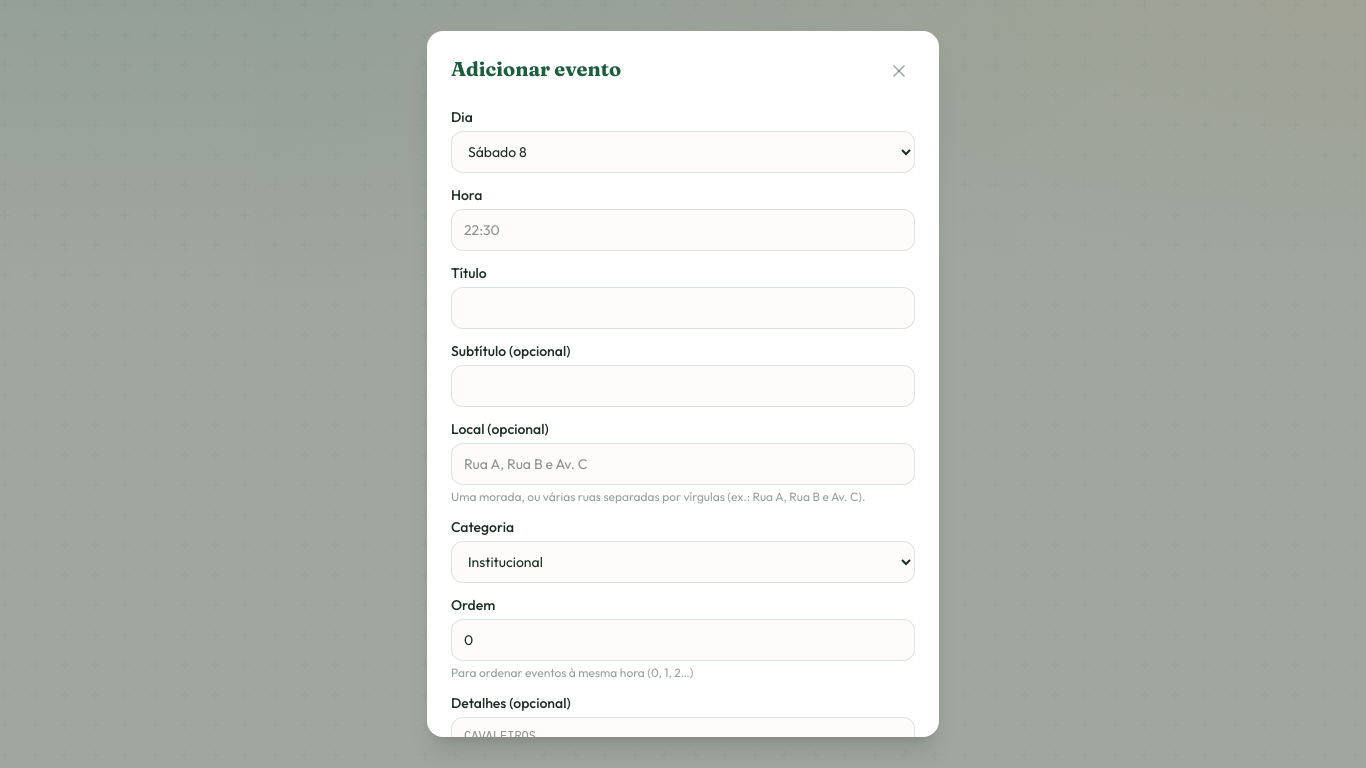
EventForm › rejects invalid time
Type "Show" into the field labelled "Título" at (683, 308), box [451, 287, 915, 329]
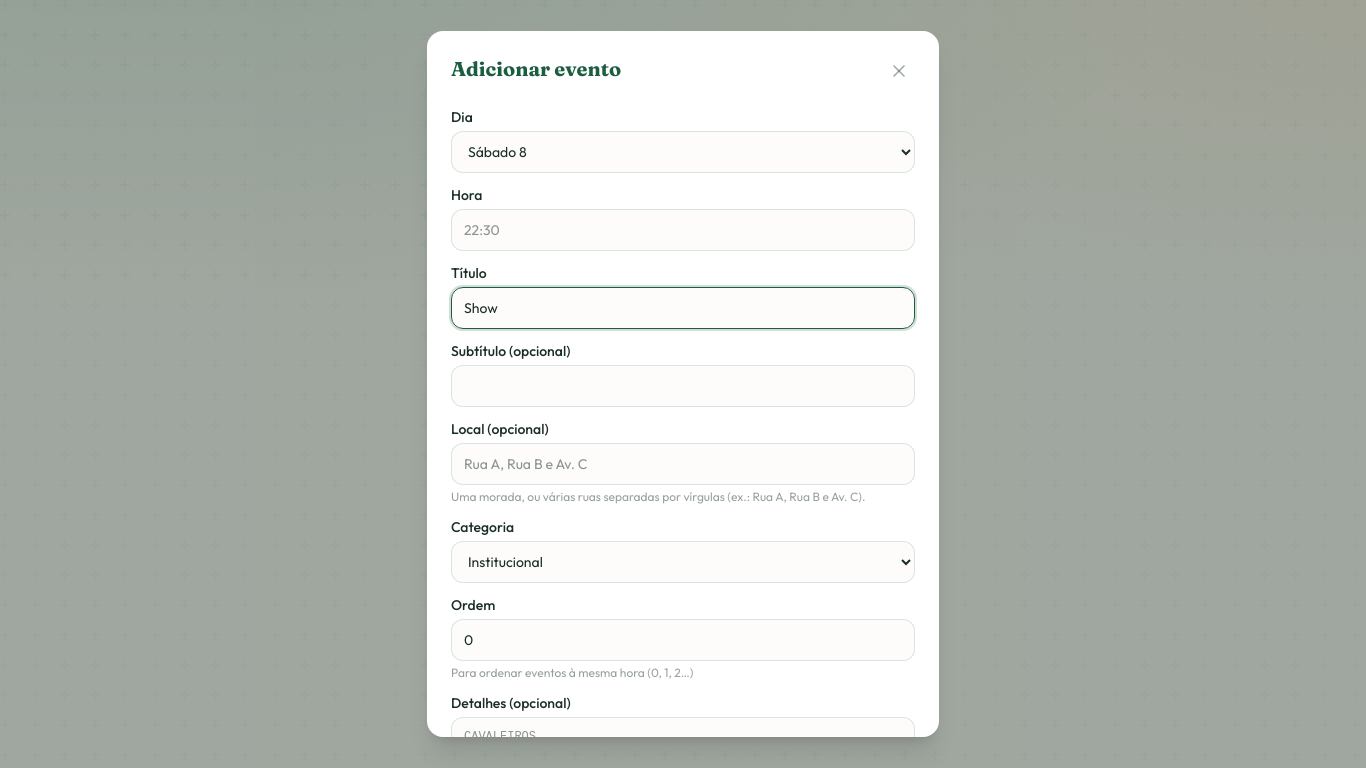
Type "99:99" into the field labelled "Hora" at (683, 230), box [451, 209, 915, 251]
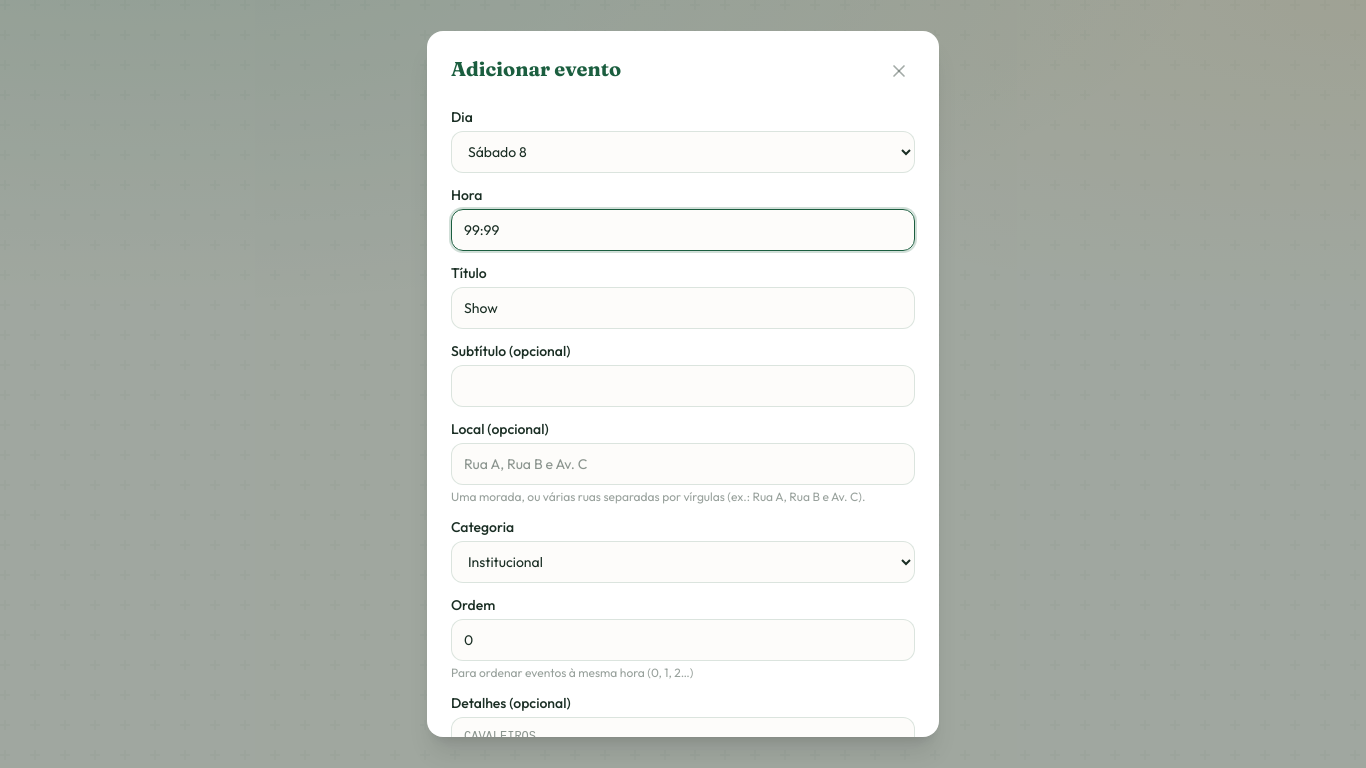
Submit the form named "guardar", box [427, 31, 939, 737]
(page scrolled)
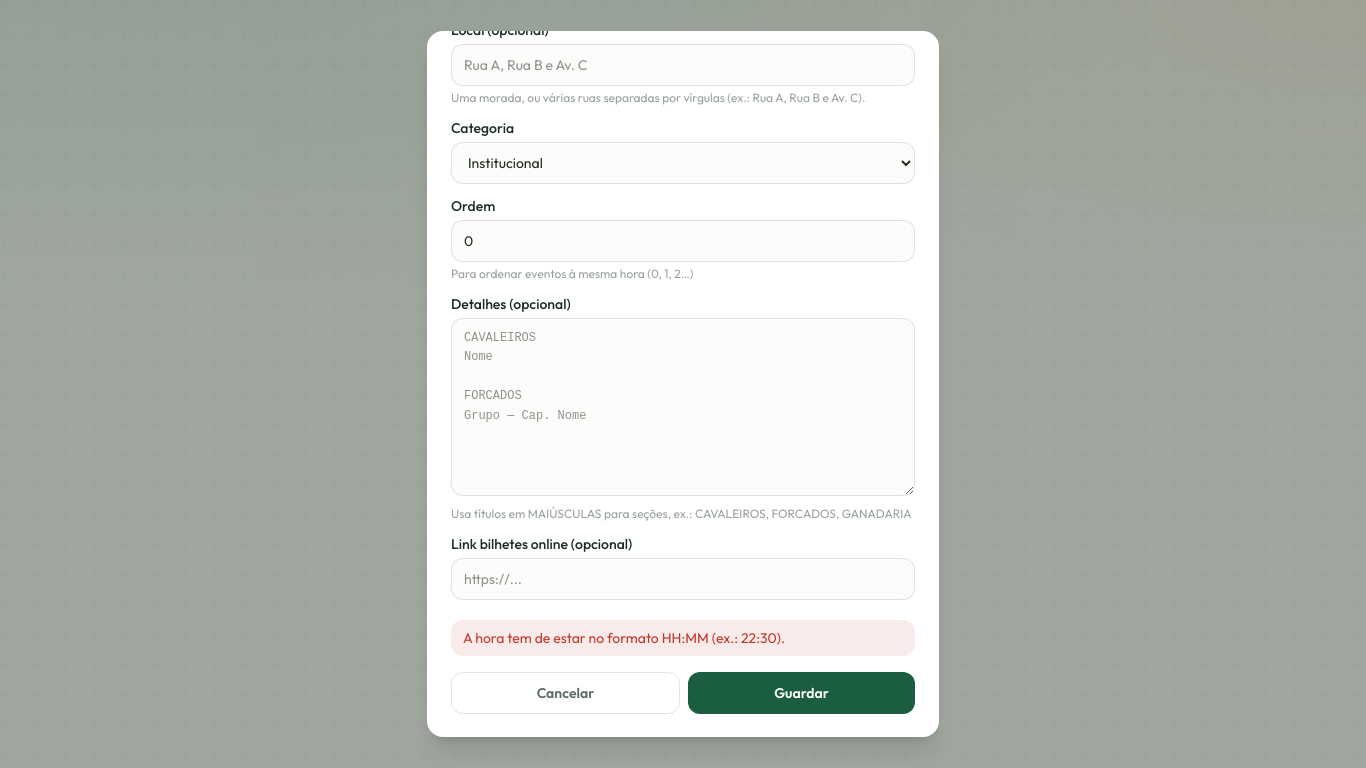
Expected: the message shows "hora", [463, 629, 785, 647]
